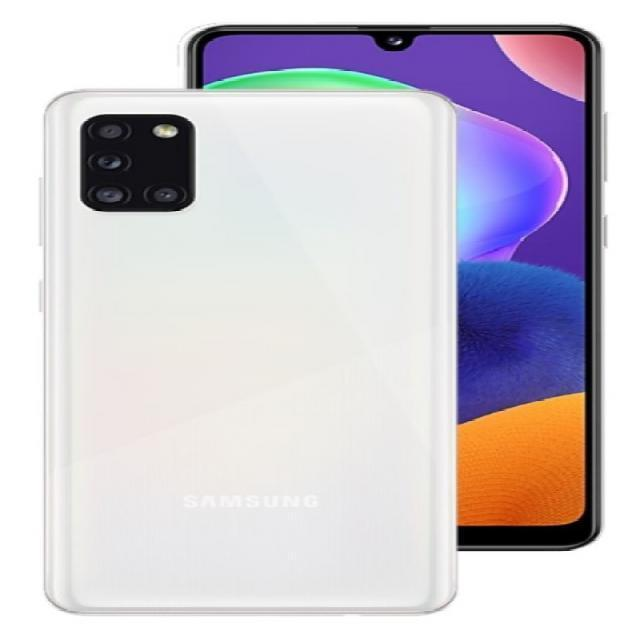phone: (40, 89, 458, 616)
